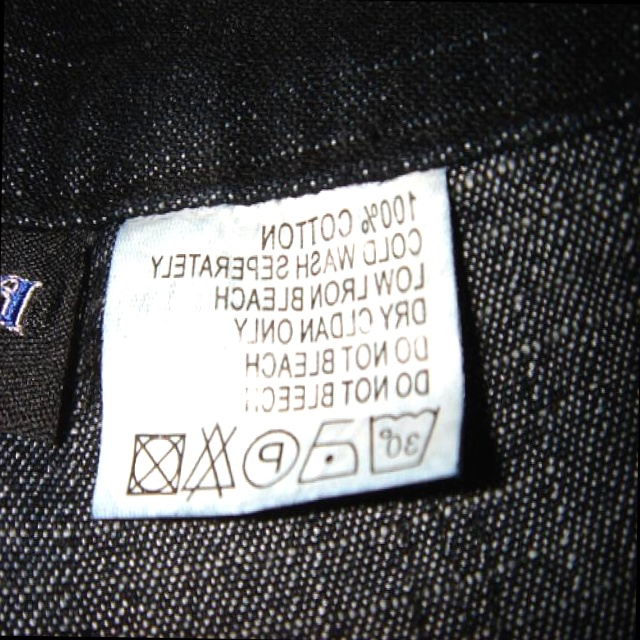30C: (365, 406, 439, 476)
DN_bleach: (183, 421, 236, 501)
DN_tumble_dry: (124, 426, 184, 501)
dry_clean_any_solvent_except_trichloroethylene: (241, 426, 301, 488)
iron_low: (299, 412, 361, 484)
